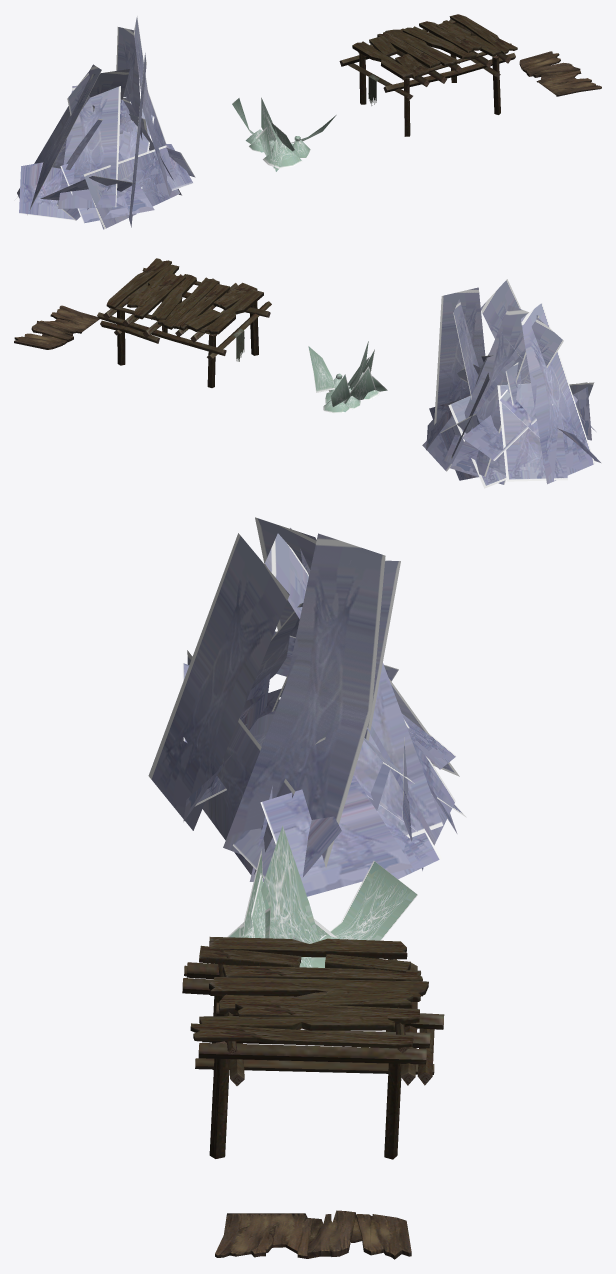
Rendered from 2_HS_MuBanZu_01.FBX.
3 views of the same model, one above another, from view 1: azimuth 30°, elevation 25°; view 2: azimuth 150°, elevation 25°; view 3: azimuth 270°, elevation 25° (orthographic). The views are drawn at different scales.
Visible parts, largest first — view 1: 2_HS_ZhiZhuWang_01, 2_HS_MuBanZu_02, 2_HS_ZhiZhuWang_02, 2_HS_MuBanZu_01; view 2: 2_HS_ZhiZhuWang_01, 2_HS_MuBanZu_02, 2_HS_ZhiZhuWang_02, 2_HS_MuBanZu_01; view 3: 2_HS_ZhiZhuWang_01, 2_HS_MuBanZu_02, 2_HS_ZhiZhuWang_02, 2_HS_MuBanZu_01.
Part boxes in pixels (x1,y1,x2,y2): 2_HS_ZhiZhuWang_01: (17,16,195,229); 2_HS_MuBanZu_02: (339,14,517,136); 2_HS_ZhiZhuWang_02: (232,97,336,171); 2_HS_MuBanZu_01: (519,51,601,96); 2_HS_ZhiZhuWang_01: (422,279,601,488); 2_HS_MuBanZu_02: (97,258,271,387); 2_HS_ZhiZhuWang_02: (308,341,387,413); 2_HS_MuBanZu_01: (14,305,99,349); 2_HS_ZhiZhuWang_01: (148,517,466,896); 2_HS_MuBanZu_02: (182,937,444,1159); 2_HS_ZhiZhuWang_02: (227,825,417,967); 2_HS_MuBanZu_01: (215,1210,411,1259).
Bounding box in the file's own units: 3094 × 905 × 758.
